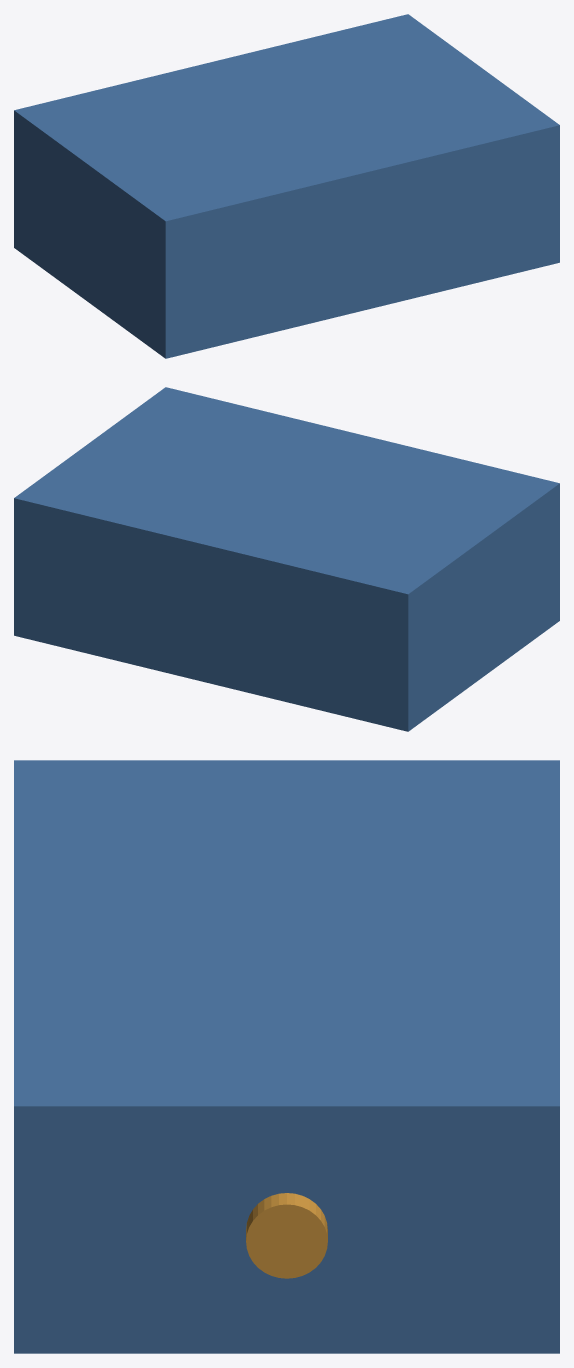
The picture shows the model from 3 angles, top to bottom: view 1: azimuth 30°, elevation 25°; view 2: azimuth 150°, elevation 25°; view 3: azimuth 270°, elevation 25°; orthographic projection. The views are drawn at different scales.
Visible parts, largest first — view 1: enclosure; view 2: enclosure; view 3: enclosure, port.
Part boxes in pixels (x1,y1,x2,y2): enclosure: (14, 14, 559, 358); enclosure: (14, 387, 559, 731); enclosure: (14, 760, 559, 1353); port: (246, 1193, 327, 1278).
Bounding box in the file's own units: 124 × 40 × 80.
